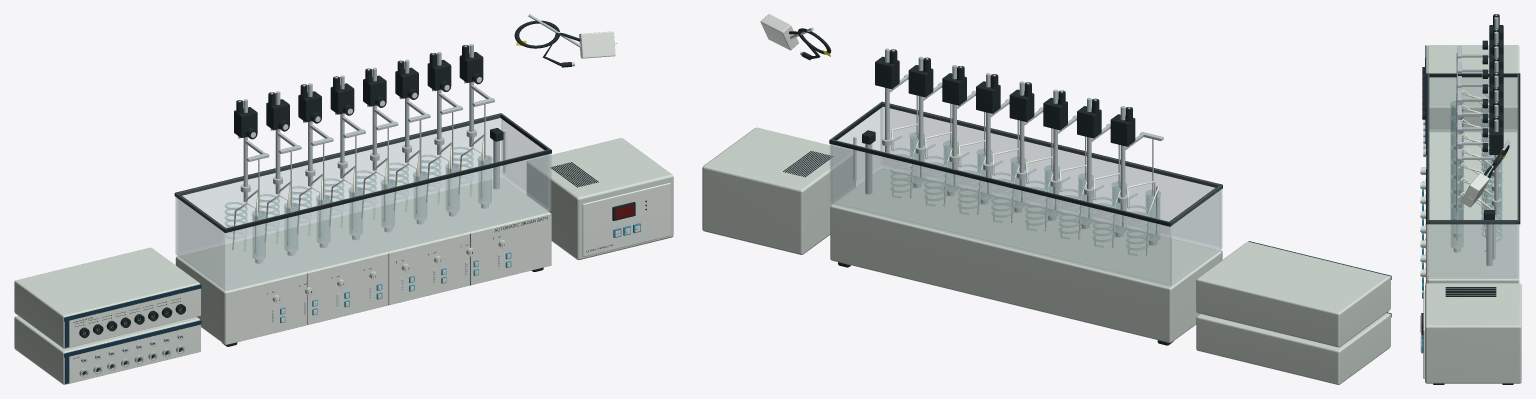
File: INS0246.glb
3 renders of one model, left to right at view 1: azimuth 30°, elevation 25°; view 2: azimuth 150°, elevation 25°; view 3: azimuth 270°, elevation 25°, orthographic. The views are drawn at different scales.
Parts seen in each view (by area): view 1: Shared_bath_long_wall_-0.0975, Bath_base, Shared_bath_long_wall_0.0975, Thermostat_case, Amplifier_shell, Thermostat_front, Fascia_panel_00, Fascia_panel_03, Fascia_panel_02, Fascia_panel_01, Amplifier_front, Acquisition_front (+15 smaller); view 2: Bath_base, Shared_bath_long_wall_0.0975, Thermostat_case, Amplifier_shell, Shared_bath_long_wall_-0.0975, Acquisition_shell, Shared_bath_end_wall_-0.3775, Shared_bath_end_wall_0.3775, Shared_bath_floor, Upper_black_long_rim_0.099, Upper_black_long_rim_-0.099, Optional_sensor_body (+9 smaller); view 3: Bath_base, Thermostat_case, Amplifier_shell, Shared_bath_end_wall_0.3775, Shared_bath_floor, Shared_bath_end_wall_-0.3775, Upper_black_long_rim_0.099, Upper_black_long_rim_-0.099, Thermostat, Optional_sensor_body, S08_vessel_wall, Shared_bath_long_wall_-0.0975 (+34 smaller).
Boxes of the visible parts, x1,y1,x2,y2 form: Shared_bath_long_wall_-0.0975: (224,149,551,289); Bath_base: (175,177,550,344); Shared_bath_long_wall_0.0975: (175,114,502,254); Thermostat_case: (527,138,673,259); Amplifier_shell: (14,247,199,348); Thermostat_front: (582,182,670,256); Fascia_panel_00: (225,273,306,344); Fascia_panel_03: (470,213,551,285); Fascia_panel_02: (389,233,469,304); Fascia_panel_01: (307,253,387,324); Amplifier_front: (64,284,200,348); Acquisition_front: (64,320,200,384); Bath_base: (830,169,1221,342); Shared_bath_long_wall_0.0975: (830,139,1171,286); Thermostat_case: (702,127,855,254); Amplifier_shell: (1196,242,1390,347); Shared_bath_long_wall_-0.0975: (880,102,1222,249); Acquisition_shell: (1196,313,1390,384); Shared_bath_end_wall_-0.3775: (1170,186,1220,284); Shared_bath_end_wall_0.3775: (831,103,881,201); Shared_bath_floor: (832,167,1220,287); Upper_black_long_rim_0.099: (829,139,1171,226); Upper_black_long_rim_-0.099: (881,101,1222,188); Optional_sensor_body: (760,14,798,50); Bath_base: (1427,132,1519,283); Thermostat_case: (1425,283,1521,383); Amplifier_shell: (1427,45,1519,132); Shared_bath_end_wall_0.3775: (1430,221,1516,277); Shared_bath_floor: (1428,129,1517,278); Shared_bath_end_wall_-0.3775: (1430,77,1516,130); Upper_black_long_rim_0.099: (1517,73,1520,224); Upper_black_long_rim_-0.099: (1426,73,1429,224); Thermostat: (1422,287,1496,338); Optional_sensor_body: (1461,173,1489,207); S08_vessel_wall: (1451,204,1463,246); Shared_bath_long_wall_-0.0975: (1427,74,1429,277).
Bounding box in the file's own units: 1.42 × 0.4873 × 0.2204.
